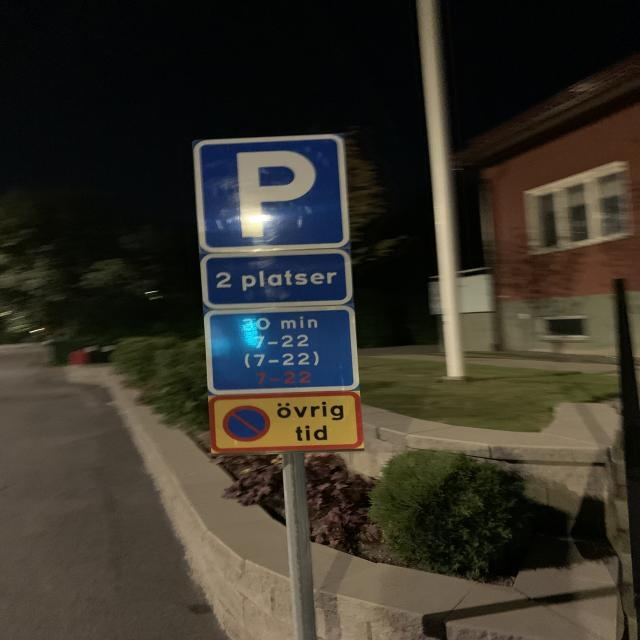P-skylt: (192, 130, 352, 256)
